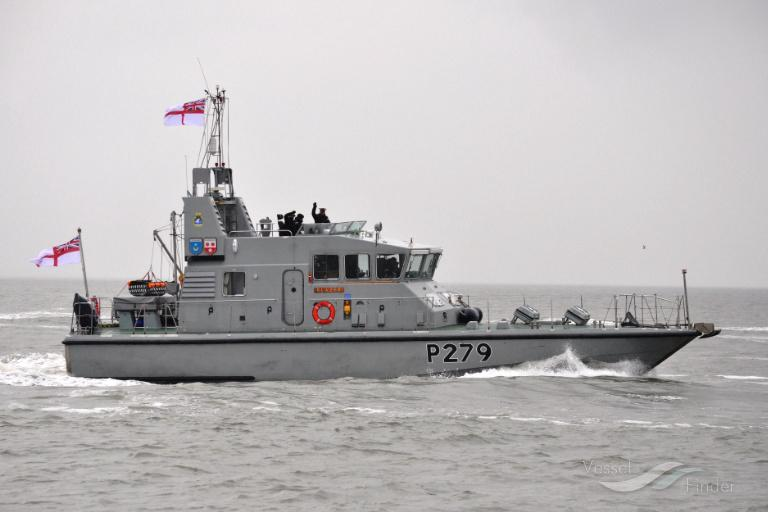OCR: (416, 338, 492, 368)
